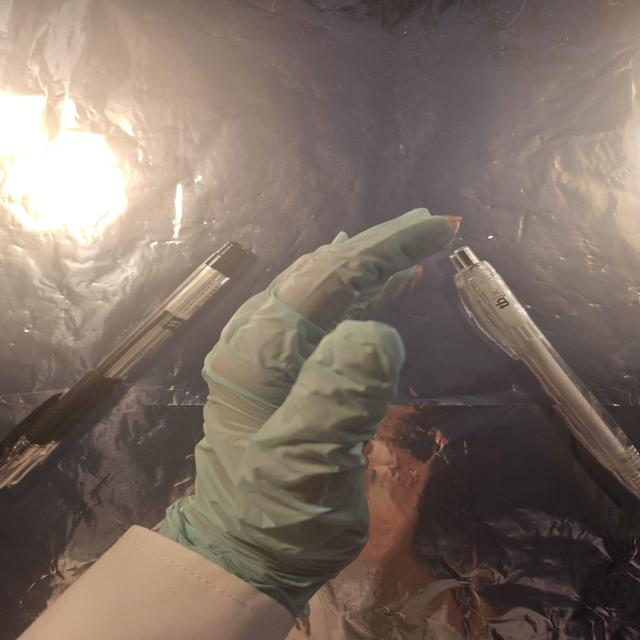gloves_damaged: (156, 202, 464, 620)
